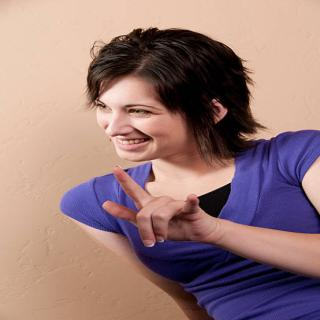I Love You: (57, 159, 229, 257)
